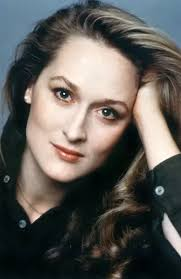n.sharp: (69, 101, 88, 149)
